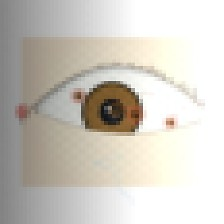foreign_body_visible: (93, 92, 138, 127)
